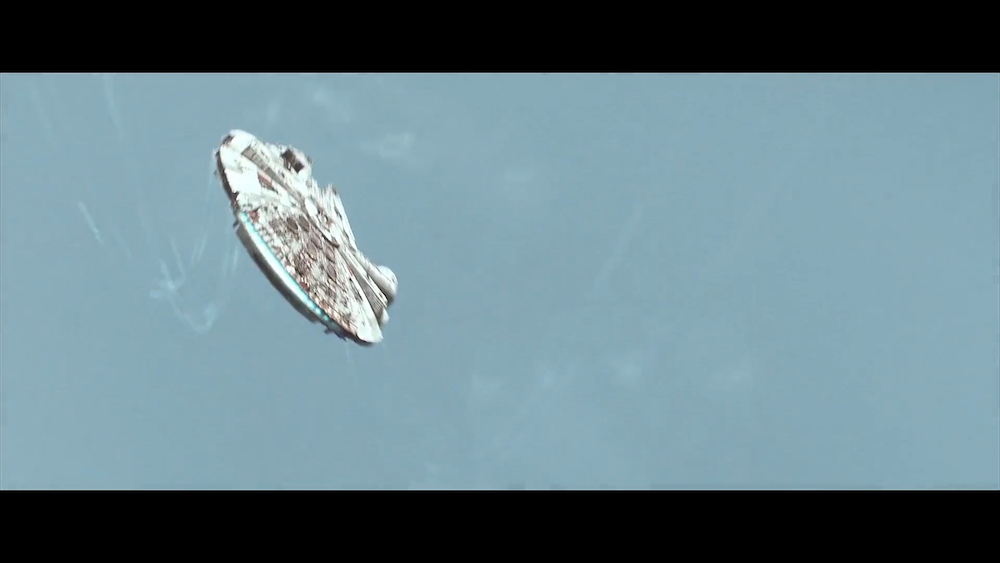Millennium Falcon: (211, 128, 400, 350)
